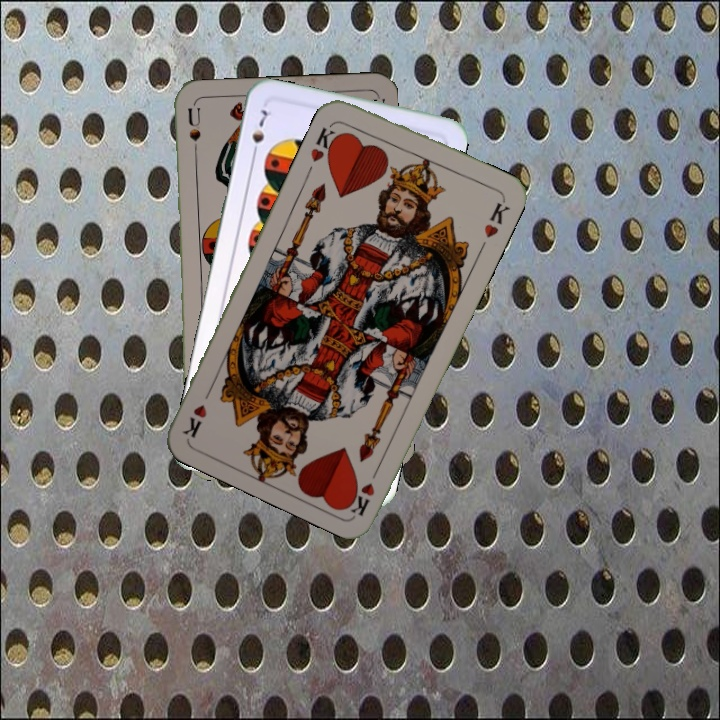HK: (343, 460, 383, 518), (306, 118, 344, 165)
S7: (248, 105, 270, 161)
SU: (184, 105, 203, 164)
